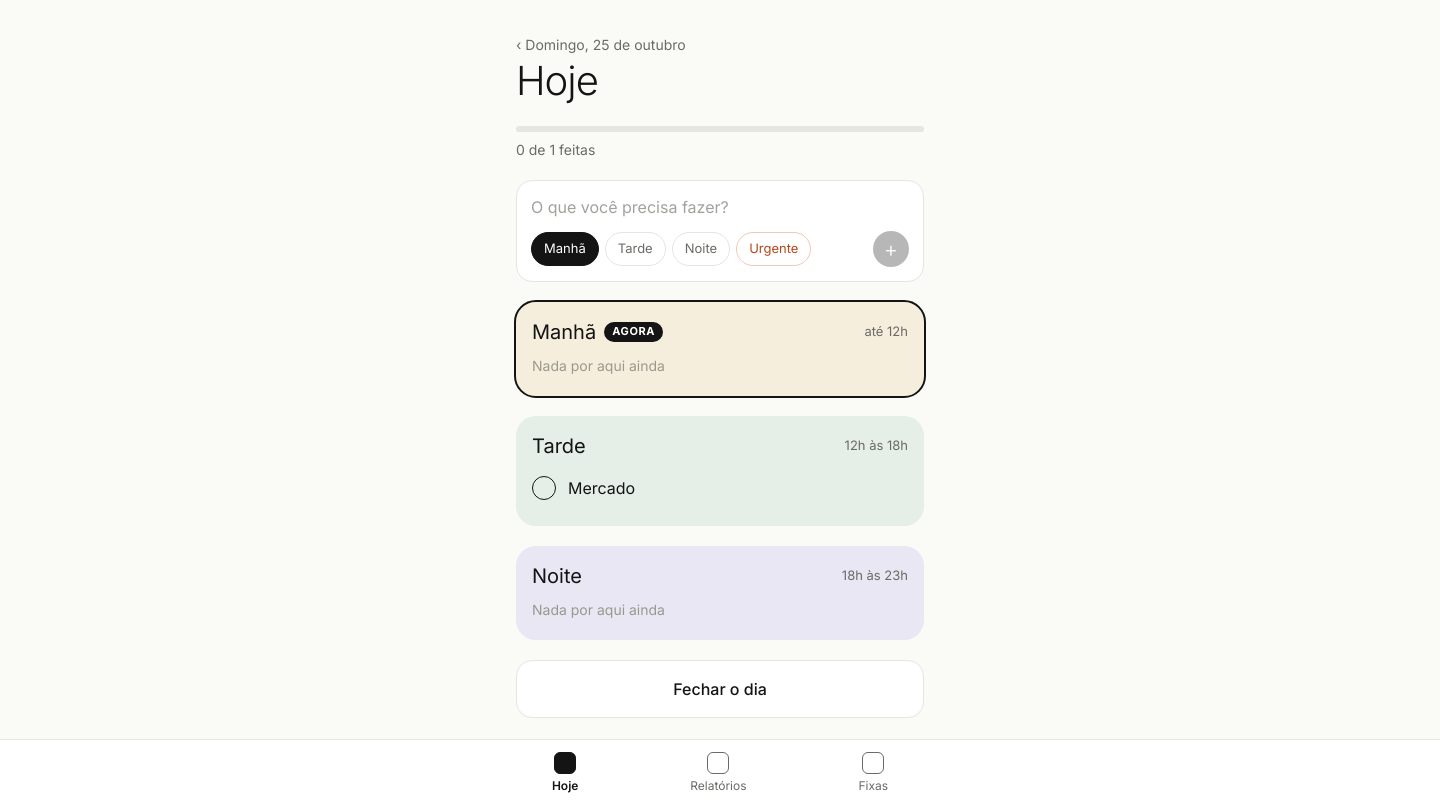
J2 e J3: planejar e fazer › "Cancelar" não exclui
Click the button "Mercado" at coordinates (602, 488), box [568,476,908,500]
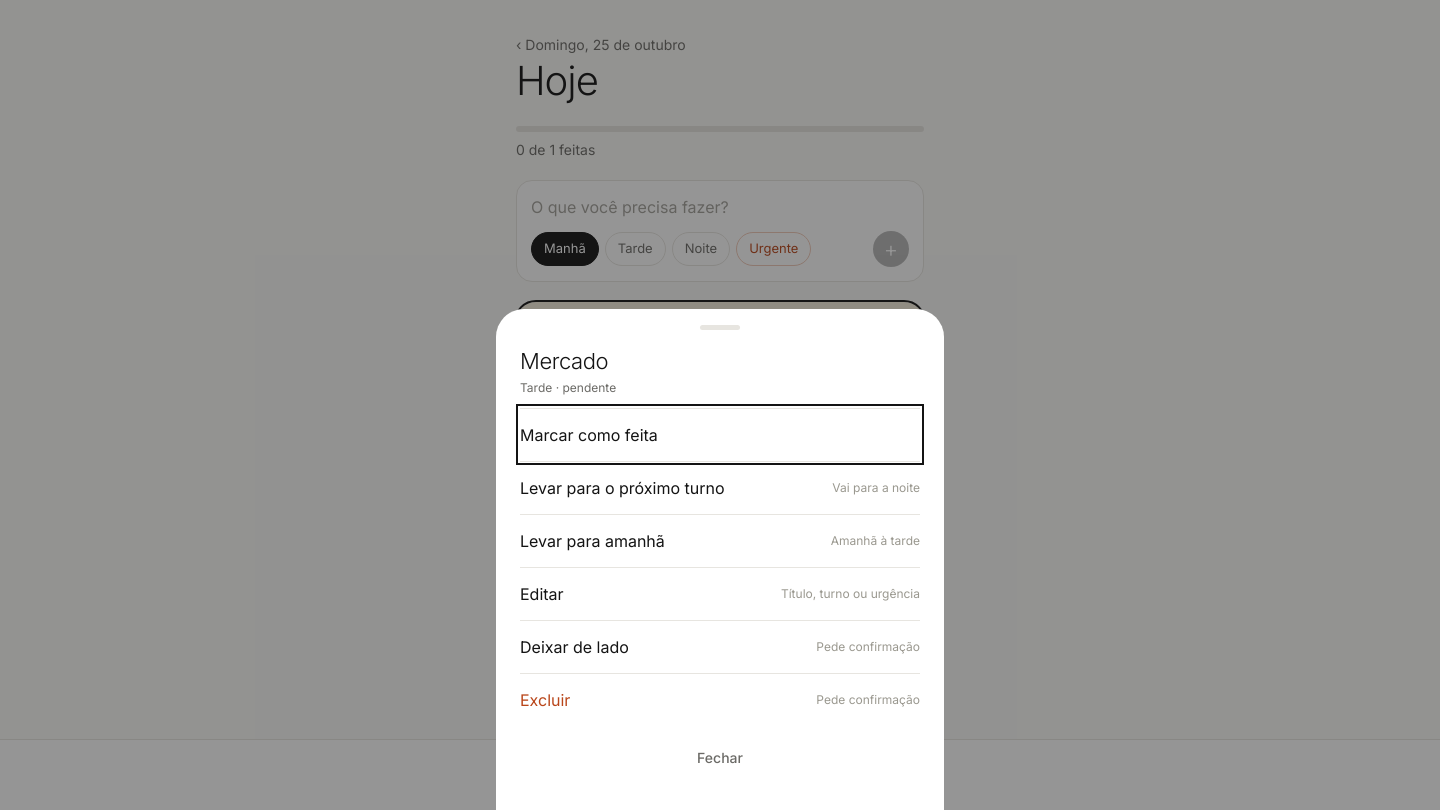
Click the button "Excluir Pede confirmação" at coordinates (545, 700), box [520,673,920,726]
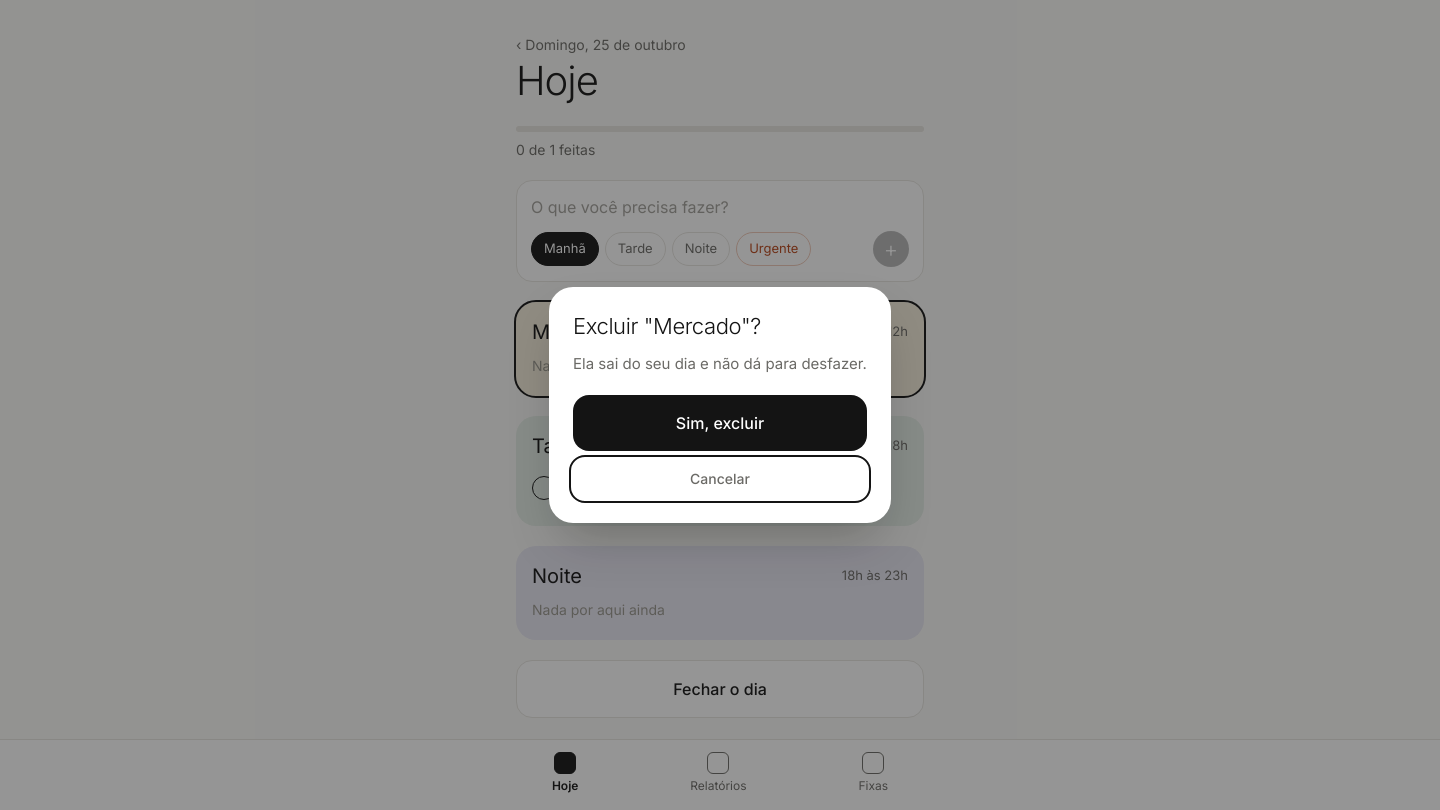
Click the button "Cancelar" at coordinates (720, 479), box [573,459,867,499]
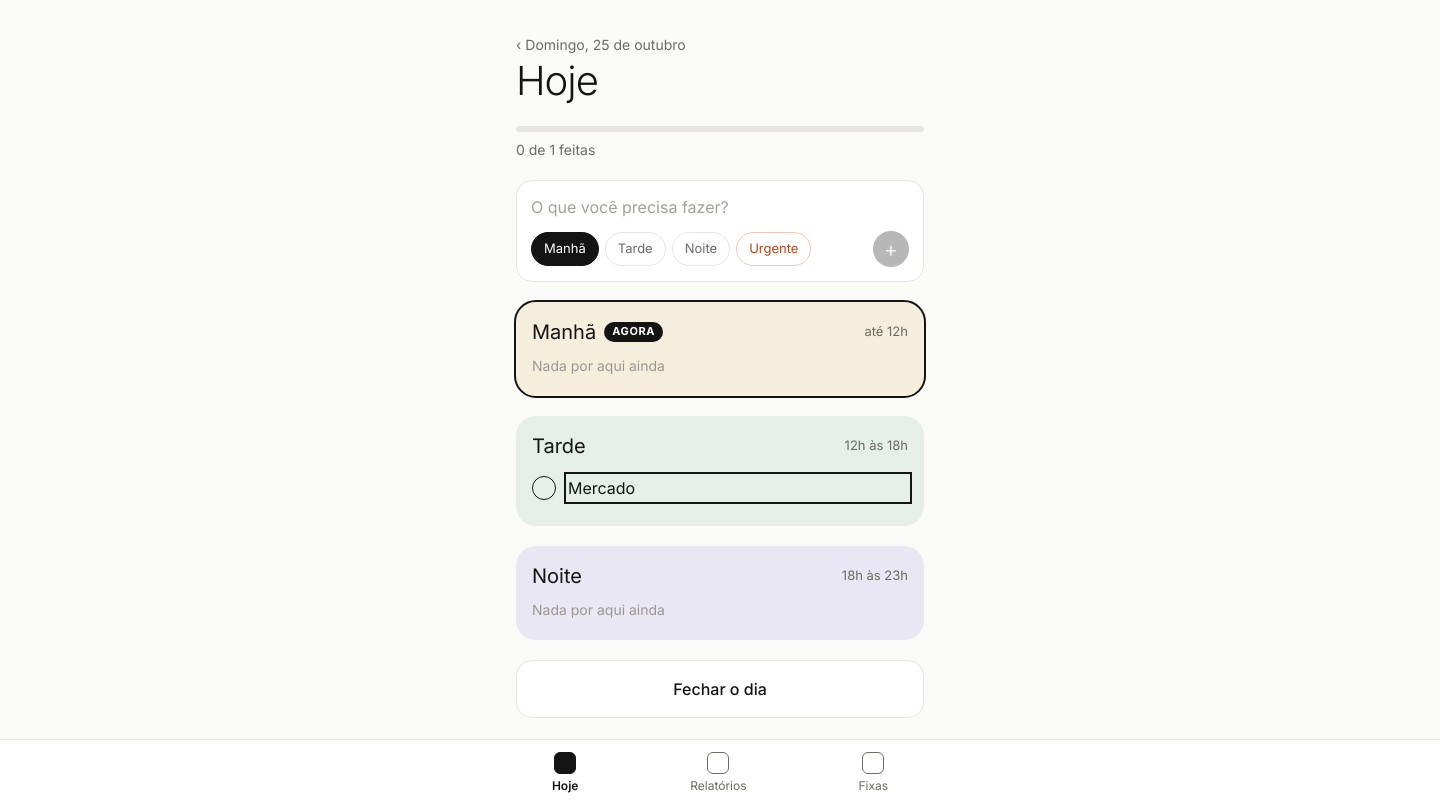
Now the dialog is gone
